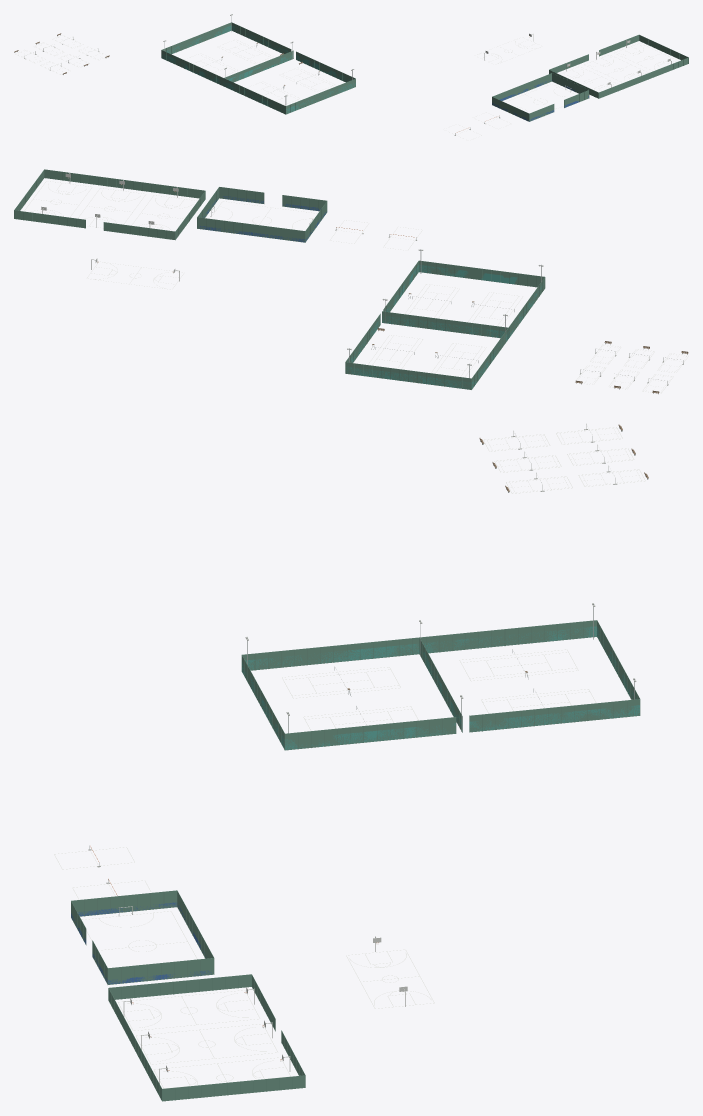
3 views of the same model, one above another, from view 1: azimuth 30°, elevation 25°; view 2: azimuth 150°, elevation 25°; view 3: azimuth 270°, elevation 25° (orthographic). The views are drawn at different scales.
Parts seen in each view (by area): view 1: outdoor-courts__tennis__fenceWire, outdoor-courts__basketball-south__fenceWire, outdoor-courts__futsal__fenceWire, outdoor-courts__tennis__windscreen, outdoor-courts__tennis__windscreenBack, outdoor-courts__tennis__fencePosts, outdoor-courts__tennis__fenceRails, outdoor-courts__basketball-south__fencePosts, outdoor-courts__futsal__windscreen; view 2: outdoor-courts__tennis__fenceWire, outdoor-courts__basketball-south__fenceWire, outdoor-courts__futsal__fenceWire, outdoor-courts__tennis__windscreen, outdoor-courts__tennis__windscreenBack, outdoor-courts__tennis__fencePosts, outdoor-courts__tennis__fenceRails, outdoor-courts__tennis__lines, outdoor-courts__basketball-south__fenceRails, outdoor-courts__futsal__windscreen, outdoor-courts__basketball-south__lines; view 3: outdoor-courts__tennis__fenceWire, outdoor-courts__basketball-south__fenceWire, outdoor-courts__futsal__fenceWire, outdoor-courts__tennis__windscreen, outdoor-courts__tennis__windscreenBack, outdoor-courts__tennis__fenceRails, outdoor-courts__tennis__fencePosts, outdoor-courts__basketball-south__lines.
Boxes of the visible parts, left/top/right/bottom form: outdoor-courts__tennis__fenceWire: left=161, top=22, right=355, bottom=113; outdoor-courts__basketball-south__fenceWire: left=549, top=35, right=688, bottom=98; outdoor-courts__futsal__fenceWire: left=492, top=73, right=588, bottom=121; outdoor-courts__tennis__windscreen: left=162, top=25, right=355, bottom=113; outdoor-courts__tennis__windscreenBack: left=162, top=26, right=355, bottom=113; outdoor-courts__tennis__fencePosts: left=161, top=24, right=342, bottom=114; outdoor-courts__tennis__fenceRails: left=162, top=22, right=355, bottom=114; outdoor-courts__basketball-south__fencePosts: left=553, top=35, right=688, bottom=98; outdoor-courts__futsal__windscreen: left=492, top=80, right=588, bottom=120; outdoor-courts__tennis__fenceWire: left=345, top=261, right=545, bottom=389; outdoor-courts__basketball-south__fenceWire: left=14, top=169, right=205, bottom=239; outdoor-courts__futsal__fenceWire: left=197, top=187, right=327, bottom=242; outdoor-courts__tennis__windscreen: left=345, top=265, right=542, bottom=388; outdoor-courts__tennis__windscreenBack: left=346, top=265, right=541, bottom=388; outdoor-courts__tennis__fencePosts: left=348, top=262, right=542, bottom=389; outdoor-courts__tennis__fenceRails: left=346, top=260, right=544, bottom=389; outdoor-courts__tennis__lines: left=368, top=284, right=522, bottom=376; outdoor-courts__basketball-south__fenceRails: left=14, top=169, right=205, bottom=239; outdoor-courts__futsal__windscreen: left=200, top=196, right=327, bottom=242; outdoor-courts__basketball-south__lines: left=24, top=181, right=196, bottom=230; outdoor-courts__tennis__fenceWire: left=242, top=620, right=639, bottom=749; outdoor-courts__basketball-south__fenceWire: left=108, top=974, right=305, bottom=1101; outdoor-courts__futsal__fenceWire: left=71, top=890, right=213, bottom=984; outdoor-courts__tennis__windscreen: left=242, top=626, right=639, bottom=749; outdoor-courts__tennis__windscreenBack: left=242, top=627, right=639, bottom=749; outdoor-courts__tennis__fenceRails: left=242, top=620, right=639, bottom=750; outdoor-courts__tennis__fencePosts: left=241, top=622, right=640, bottom=750; outdoor-courts__basketball-south__lines: left=118, top=990, right=290, bottom=1088.
Bounding box in the file's own units: 279 × 31.77 × 128.
Materials: 10 (2 with a texture image).
